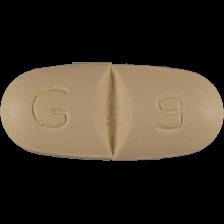49349-614: (0, 0, 224, 224)
